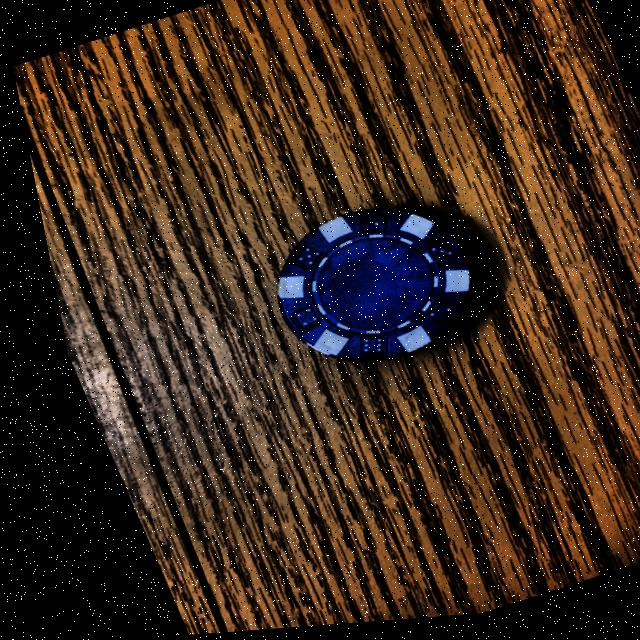Chip: (229, 187, 488, 394)
